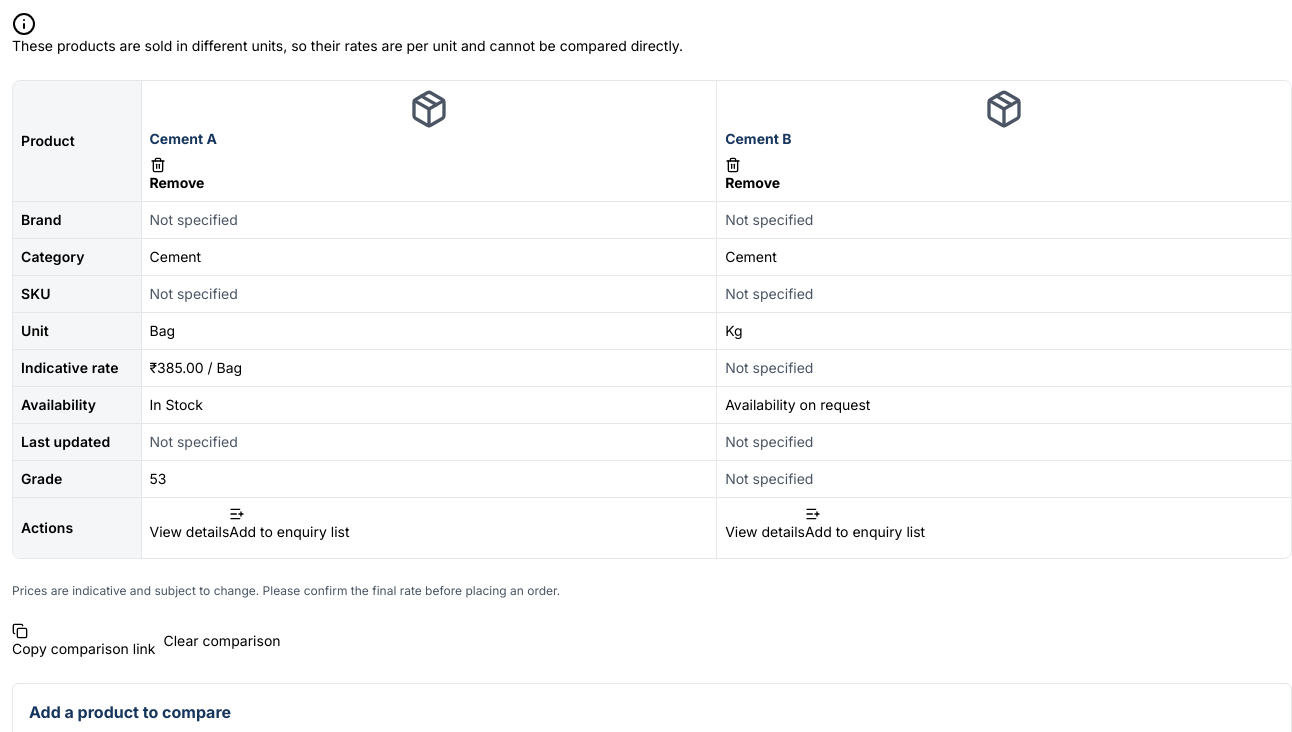
Test case: CompareView › copies a shareable link containing only the product ids
Click the button "Copy comparison link" at (84, 641), box 12,623 -> 156,659
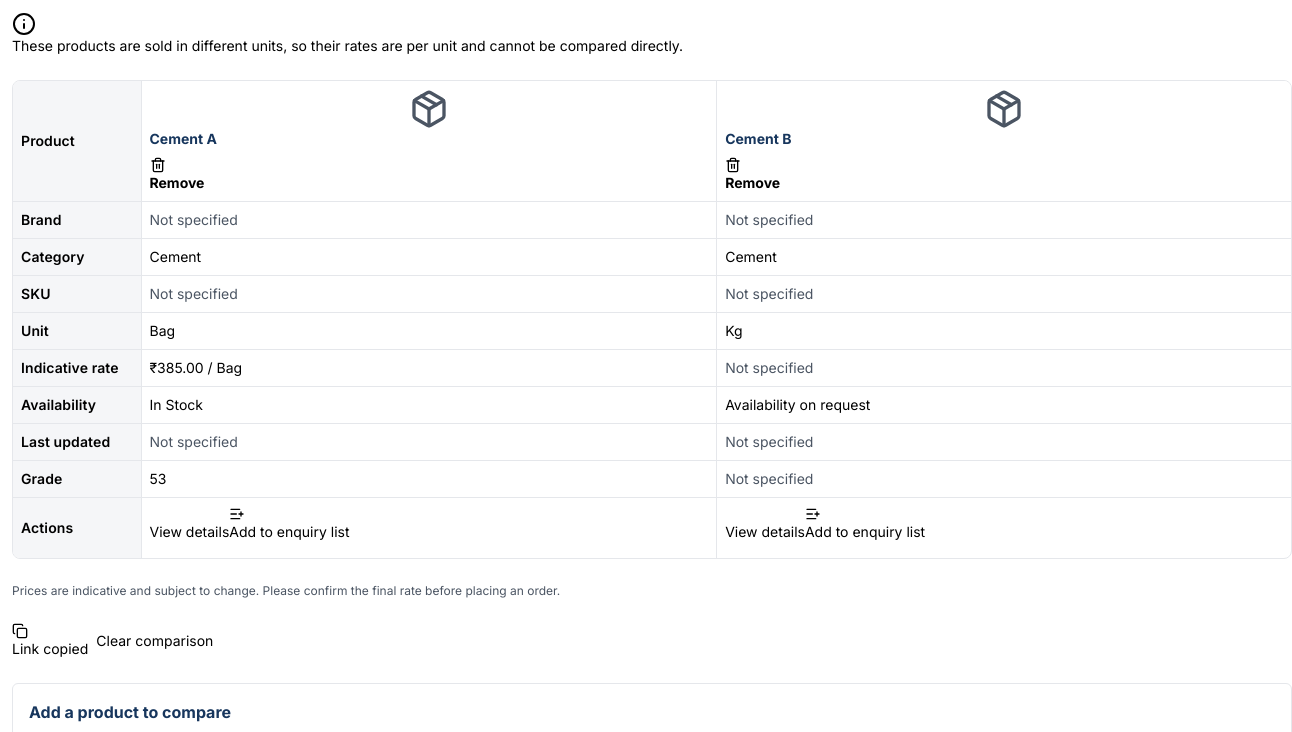
Expected: the button "Link copied" is shown, 12,623 -> 88,659
